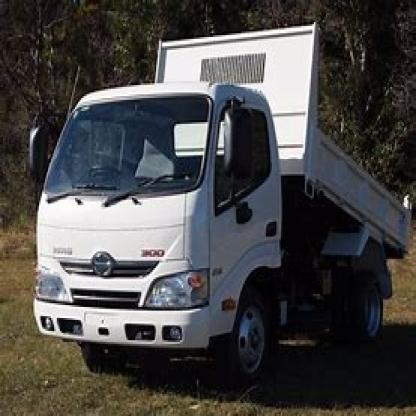dump_truck: (27, 18, 415, 394)
